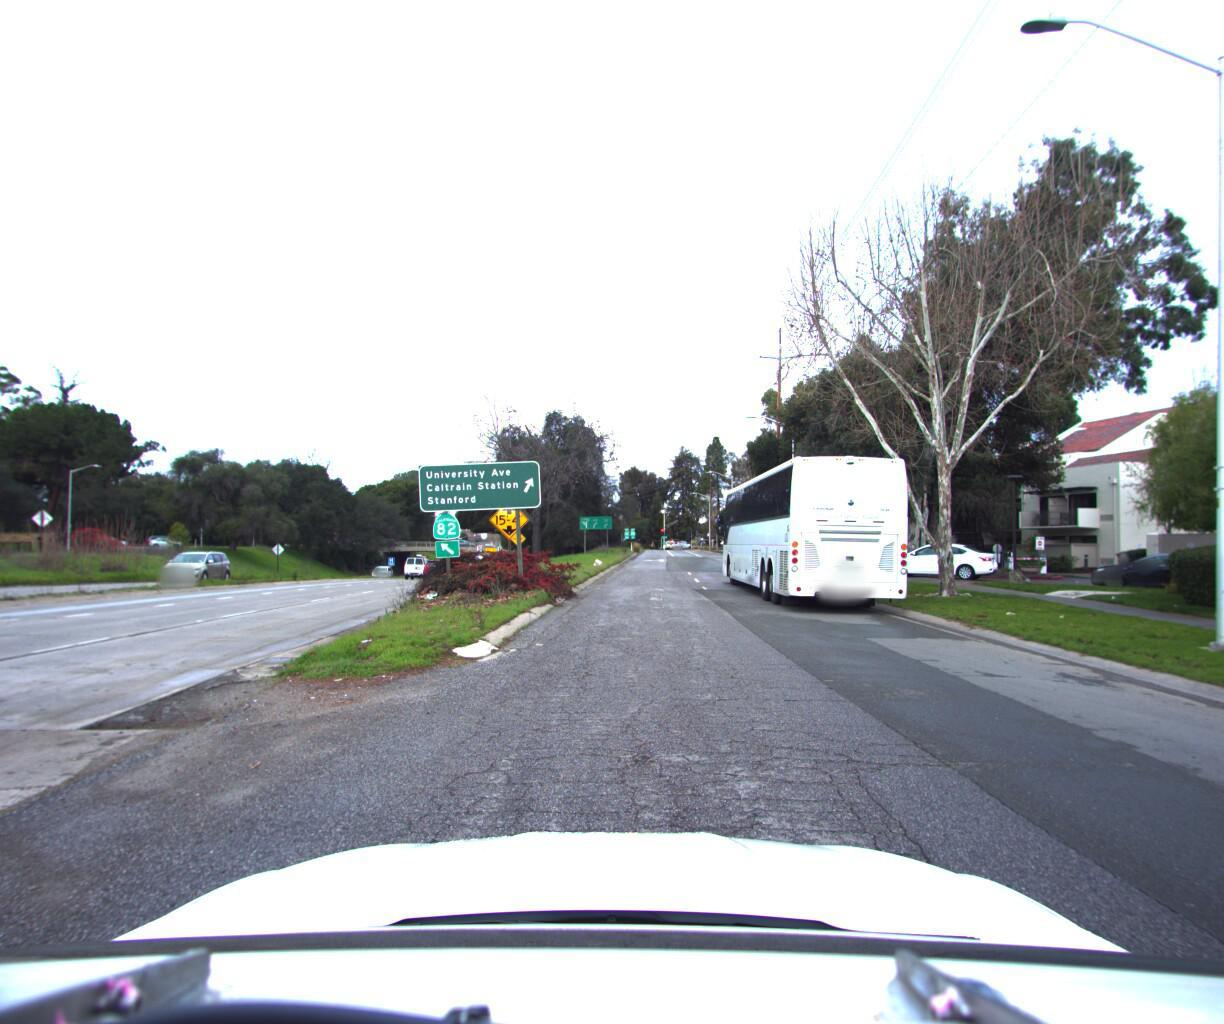bus: (718, 442, 922, 603)
car: (1063, 542, 1224, 588), (872, 533, 1000, 573), (157, 547, 234, 584), (400, 548, 433, 575), (419, 553, 451, 576)
